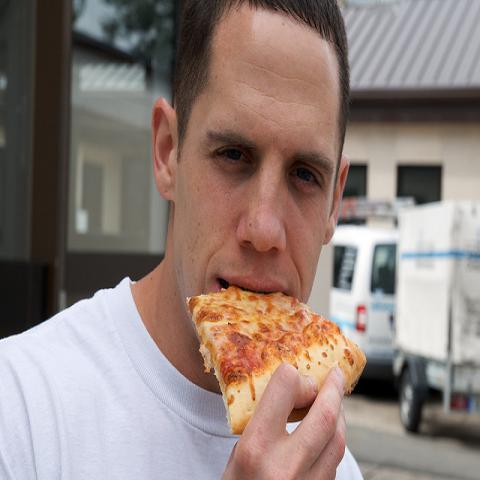car: (308, 195, 418, 399)
truck: (327, 224, 397, 366)
